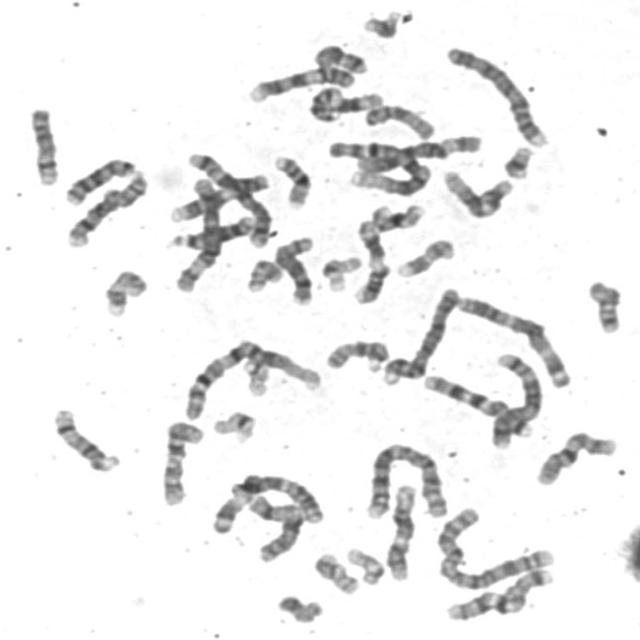A1: (176, 332, 325, 422), (323, 134, 432, 198)
A2: (430, 503, 556, 592), (359, 438, 451, 522)
A3: (450, 289, 575, 390), (207, 469, 328, 536)
B4: (440, 40, 552, 150), (376, 282, 463, 386)
B5: (180, 147, 274, 250), (484, 347, 544, 448)
C10: (529, 426, 620, 488), (154, 415, 206, 508)
C11: (345, 214, 391, 306), (303, 82, 385, 124)
C12: (437, 165, 516, 221), (380, 480, 420, 583)
C6: (168, 171, 226, 295), (348, 128, 484, 174)
C7: (418, 370, 538, 440), (439, 563, 557, 623)
C8: (60, 166, 151, 249), (267, 230, 317, 306)
C9: (164, 168, 272, 223), (242, 60, 358, 105)
D13: (59, 152, 139, 207), (160, 211, 257, 251)
D14: (46, 403, 122, 474), (23, 101, 62, 188)
D15: (358, 98, 438, 141), (320, 334, 392, 374)
E16: (268, 150, 314, 210), (366, 198, 428, 233)
E17: (391, 233, 458, 279), (98, 265, 150, 318)
E18: (581, 274, 625, 335), (308, 39, 370, 75)
F19: (315, 250, 364, 293), (207, 405, 258, 444)
F20: (308, 548, 362, 596), (239, 254, 285, 294)
G21: (356, 5, 403, 41), (497, 140, 536, 180)
G22: (340, 542, 387, 587), (236, 350, 273, 397)
X: (241, 488, 304, 564)
Y: (271, 590, 325, 624)
